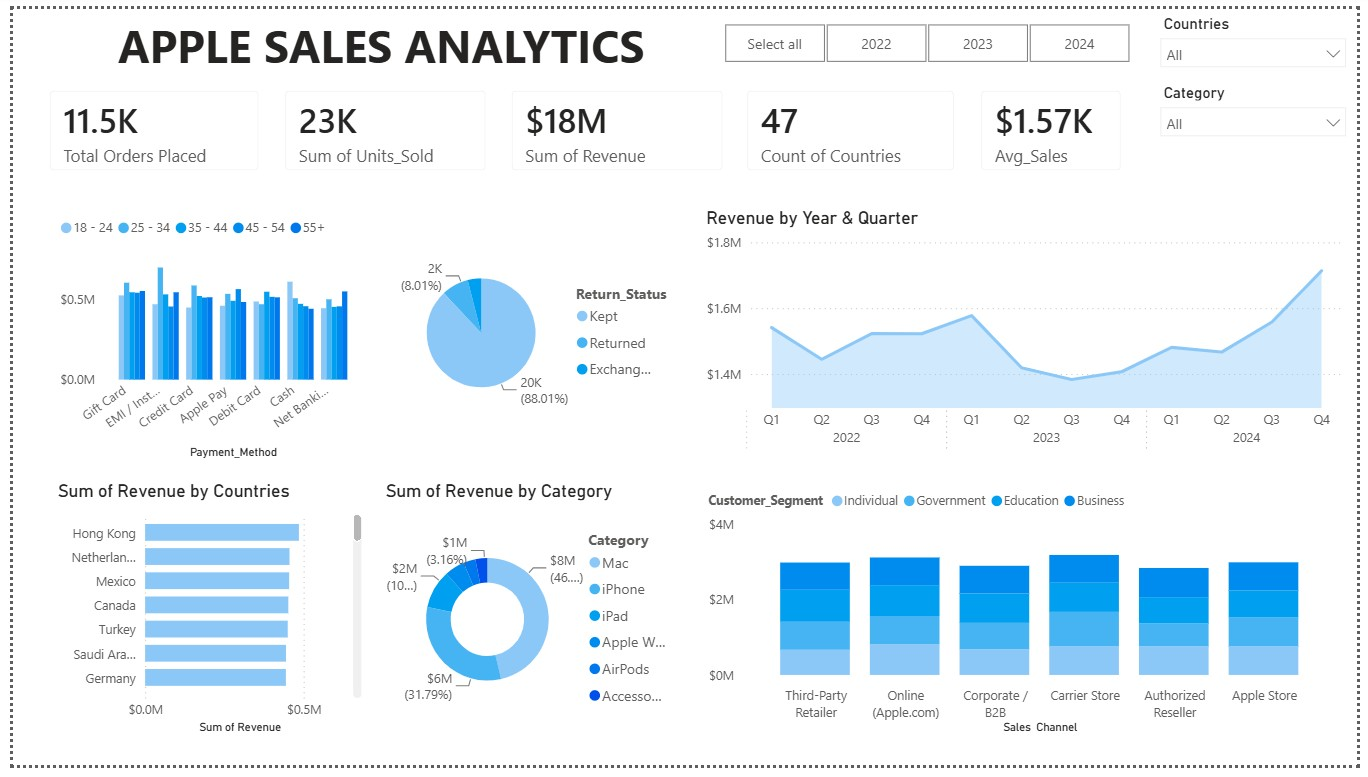

What the dashboard file says about the page in this screenshot:
{"tool":"powerbi","page":{"name":"DASHBOARD","canvas":[1280,720],"ordinal":0},"visuals":[{"type":"slicer","fields":{"Values":["Global_Sales_Apple.Year"]},"box":[657.8,12.5,425,39.1],"z":0},{"type":"slicer","fields":{"Values":["Global_Sales_Apple.Countries"]},"box":[1082.8,0,196.9,65.6],"z":1000},{"type":"slicer","fields":{"Values":["Global_Sales_Apple.Category"]},"box":[1082.8,65.6,196.9,75],"z":2000},{"type":"cardVisual","fields":{"Data":["Global_Sales_Apple.Total Orders"]},"box":[23.4,65.6,223.4,100],"z":3000},{"type":"cardVisual","fields":{"Data":["Sum(Global_Sales_Apple.No_of_Units_Sold)"]},"box":[246.9,65.6,215.6,100],"z":4000},{"type":"cardVisual","fields":{"Data":["Sum(Global_Sales_Apple.Revenue_USD)"]},"box":[462.5,65.6,225,100],"z":5000},{"type":"cardVisual","fields":{"Data":["Count(Global_Sales_Apple.Country)"]},"box":[687.5,65.6,221.9,100],"z":6000},{"type":"cardVisual","fields":{"Data":["Global_Sales_Apple.Avg Sales Order"]},"box":[909.4,65.6,157.8,100],"z":7000},{"type":"areaChart","title":"Revenue by Year & Quarter","fields":{"Category":["Global_Sales_Apple.Year","Global_Sales_Apple.Quarter"],"Y":["Sum(Global_Sales_Apple.Revenue_USD)"]},"box":[657.8,189.1,607.8,239.1],"z":8000},{"type":"columnChart","fields":{"Category":["Global_Sales_Apple.Sales_Channel"],"Y":["Sum(Global_Sales_Apple.Revenue_USD)"],"Series":["Global_Sales_Apple.Customer_Segment"]},"box":[657.8,448.4,607.8,245.3],"z":9000},{"type":"pieChart","fields":{"Y":["Sum(Global_Sales_Apple.No_of_Units_Sold)"],"Category":["Global_Sales_Apple.Return_Status"]},"box":[350,189.1,285.9,239.1],"z":10000},{"type":"donutChart","title":"Sum of Revenue by Category","fields":{"Category":["Global_Sales_Apple.Category"],"Y":["Sum(Global_Sales_Apple.Revenue_USD)"]},"box":[350,448.4,285.9,245.3],"z":11000},{"type":"lineClusteredColumnComboChart","title":"Orders_placed & Sum of revenue by Payment_method & Cust_age_grp","fields":{"Category":["Global_Sales_Apple.Payment_Method"],"Series":["Global_Sales_Apple.Customer_age_group"],"Y":["Sum(Global_Sales_Apple.Revenue)"]},"box":[42.2,189.1,289.1,239.1],"z":12000},{"type":"barChart","title":"Sum of Revenue by Countries","fields":{"Category":["Global_Sales_Apple.Country"],"Y":["Sum(Global_Sales_Apple.Revenue_USD)"]},"box":[42.2,448.4,289.1,245.3],"z":13000},{"type":"textbox","box":[42.2,0,615.6,70.3],"z":14000}]}

Visuals, with their boxes in screenshot pixels (x1, y1, x2, y2), scaled from the page's 1280x720 canvas onto the 1368x777 screenshot:
slicer - Global_Sales_Apple.Year: l=703, t=13, r=1157, b=56
slicer - Global_Sales_Apple.Countries: l=1157, t=0, r=1367, b=71
slicer - Global_Sales_Apple.Category: l=1157, t=71, r=1367, b=152
cardVisual - Global_Sales_Apple.Total Orders: l=25, t=71, r=264, b=179
cardVisual - Sum(Global_Sales_Apple.No_of_Units_Sold): l=264, t=71, r=494, b=179
cardVisual - Sum(Global_Sales_Apple.Revenue_USD): l=494, t=71, r=735, b=179
cardVisual - Count(Global_Sales_Apple.Country): l=735, t=71, r=972, b=179
cardVisual - Global_Sales_Apple.Avg Sales Order: l=972, t=71, r=1141, b=179
"Revenue by Year & Quarter" areaChart: l=703, t=204, r=1353, b=462
columnChart - Global_Sales_Apple.Sales_Channel x Sum(Global_Sales_Apple.Revenue_USD): l=703, t=484, r=1353, b=749
pieChart - Sum(Global_Sales_Apple.No_of_Units_Sold) x Global_Sales_Apple.Return_Status: l=374, t=204, r=680, b=462
"Sum of Revenue by Category" donutChart: l=374, t=484, r=680, b=749
"Orders_placed & Sum of revenue by Payment_method & Cust_age_grp" lineClusteredColumnComboChart: l=45, t=204, r=354, b=462
"Sum of Revenue by Countries" barChart: l=45, t=484, r=354, b=749
textbox: l=45, t=0, r=703, b=76
